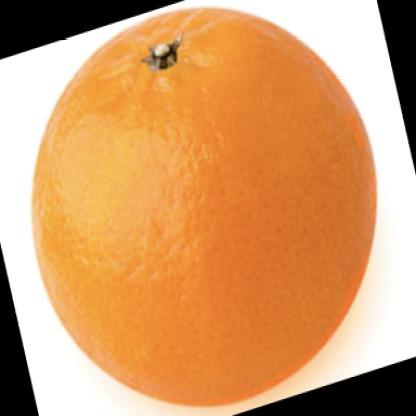fresh: (32, 9, 377, 406)
